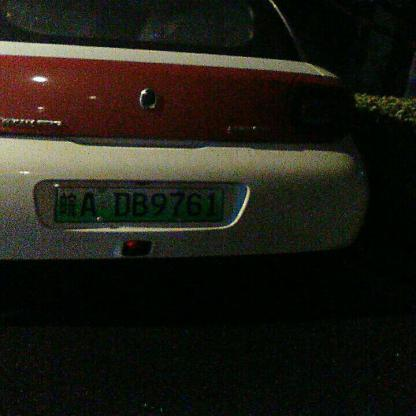lp: (56, 186, 221, 220)
